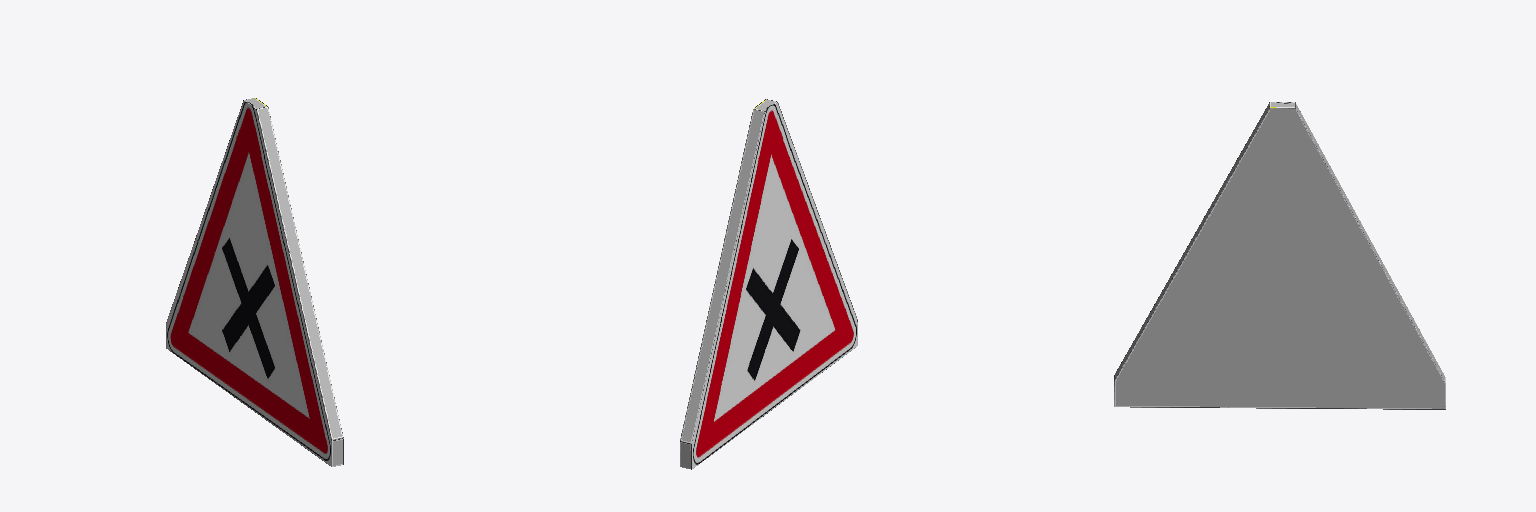
3 renders of one model, left to right at view 1: azimuth 30°, elevation 25°; view 2: azimuth 150°, elevation 25°; view 3: azimuth 270°, elevation 25°, orthographic.
Bounding box in the file's own units: 0.1166 × 2.37 × 2.36.
Materials: 1 (1 with a texture image).